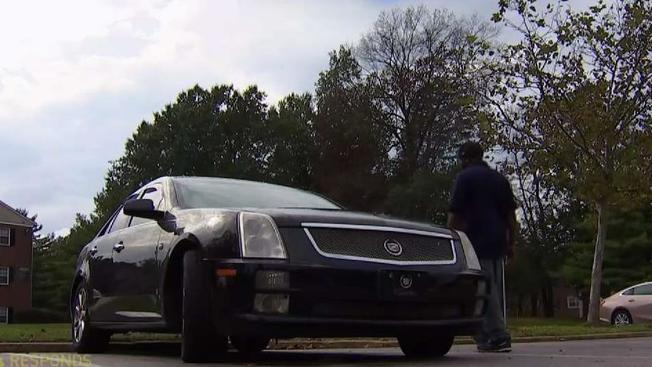car: (58, 170, 497, 362), (598, 279, 652, 329)
